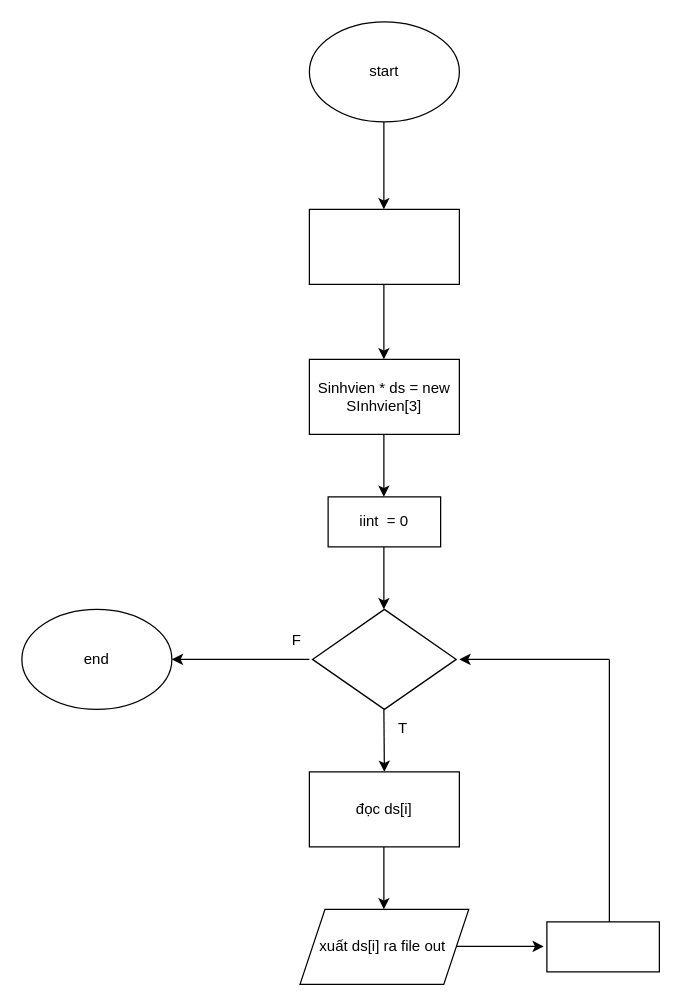
Some shapes in this 681 by 1006 pixel diagram are drawn without their labels. The box of each missing label's shape, as (x1, y1, x2, y2) in pixels:
i < 3?: (311, 608, 456, 709)
i++: (546, 921, 659, 972)
ifstream fin và otstream fout: (308, 208, 459, 284)
